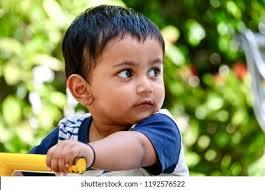Human: (35, 5, 189, 180)
